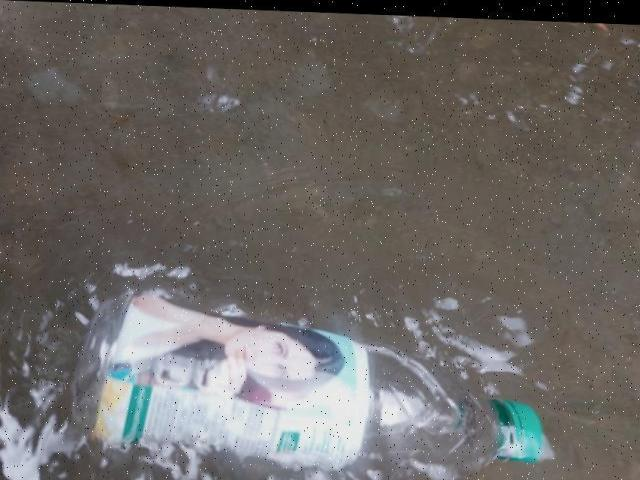Bottle: (66, 281, 560, 480)
